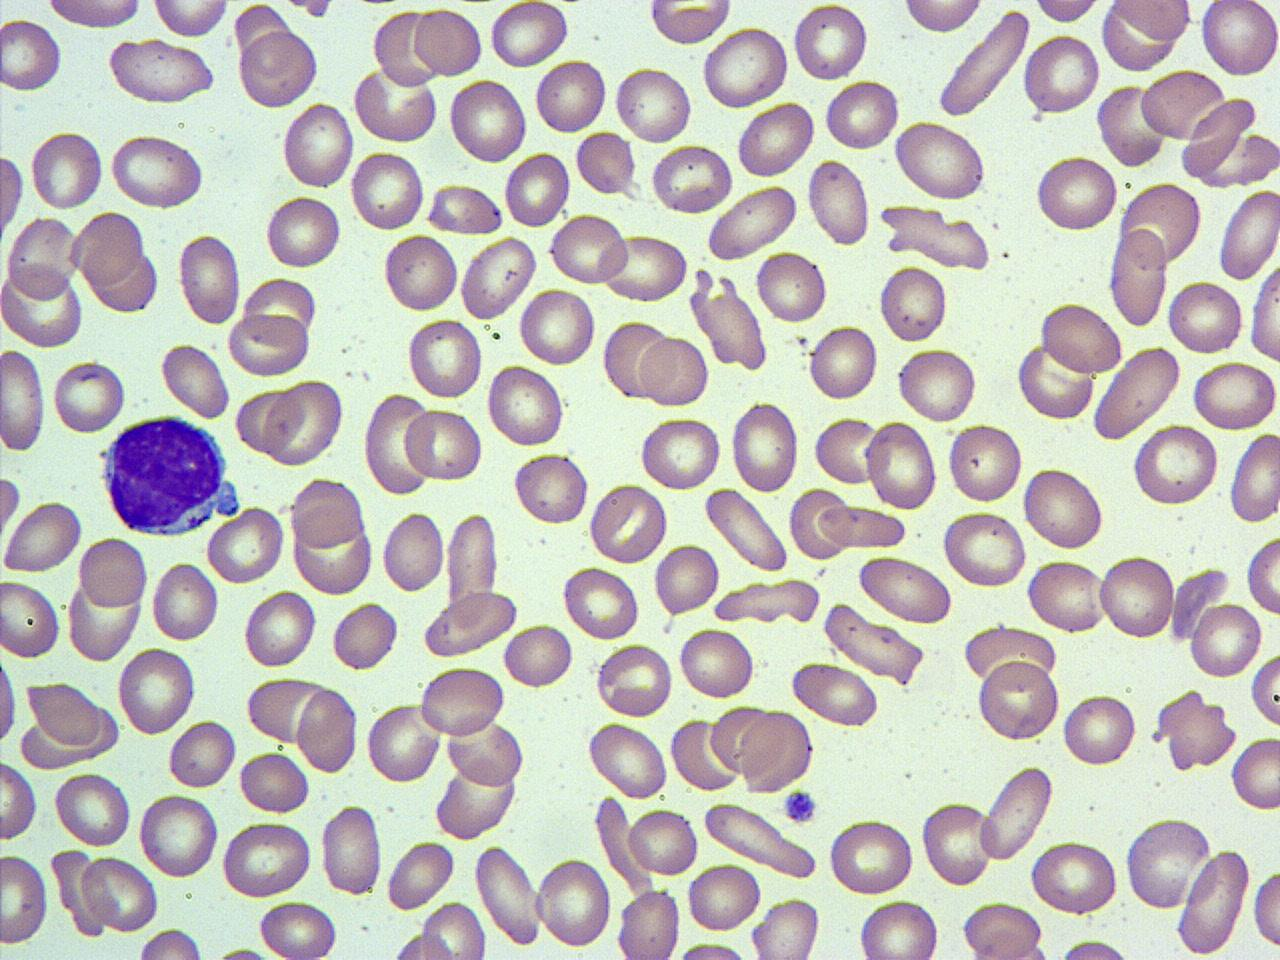Platelets: (782, 788, 820, 826)
RBC: (934, 6, 1032, 120), (821, 600, 929, 688), (699, 800, 816, 878), (1091, 344, 1181, 442), (1174, 844, 1250, 956), (1116, 182, 1204, 272), (700, 24, 792, 112), (1124, 816, 1206, 913), (892, 118, 988, 201), (108, 131, 207, 211), (0, 258, 85, 350), (362, 390, 434, 497), (137, 789, 220, 882), (472, 842, 546, 946), (977, 761, 1053, 862), (698, 267, 770, 375), (878, 204, 994, 270), (1131, 421, 1219, 508), (262, 376, 344, 470), (703, 484, 790, 572), (106, 36, 217, 105), (352, 62, 441, 146), (447, 75, 529, 166), (534, 854, 612, 950), (115, 644, 195, 737), (827, 815, 915, 898), (222, 819, 312, 899), (707, 184, 799, 262), (1098, 550, 1176, 642), (864, 417, 940, 512), (976, 658, 1060, 743), (1034, 151, 1120, 235), (941, 507, 1028, 590), (458, 233, 538, 322), (486, 361, 566, 450), (237, 25, 321, 110), (1021, 465, 1105, 550), (417, 662, 507, 740), (205, 501, 287, 586), (432, 758, 518, 840), (959, 620, 1059, 690), (1028, 838, 1120, 914), (1025, 556, 1111, 636), (406, 314, 484, 402), (729, 400, 800, 496), (280, 100, 355, 192), (1014, 338, 1096, 422), (588, 482, 669, 566), (858, 554, 954, 624), (365, 699, 442, 787), (946, 419, 1024, 507), (5, 212, 81, 302), (920, 799, 996, 888), (739, 707, 815, 795), (1105, 224, 1169, 328), (1137, 68, 1227, 142), (614, 64, 694, 146), (517, 285, 597, 369), (895, 344, 979, 424), (1023, 31, 1101, 117), (241, 586, 318, 672), (383, 230, 461, 316), (586, 720, 668, 800), (350, 148, 427, 233), (402, 404, 484, 484), (639, 414, 723, 492), (600, 232, 690, 304), (1189, 358, 1277, 432), (1096, 82, 1168, 170), (561, 563, 641, 643), (1199, 0, 1279, 81), (735, 100, 816, 178), (1215, 186, 1280, 284), (422, 588, 518, 654), (52, 769, 132, 849), (792, 2, 870, 84), (1039, 301, 1123, 376), (650, 141, 734, 217), (80, 854, 158, 934), (1166, 277, 1246, 356), (264, 192, 342, 272), (532, 56, 610, 137), (789, 659, 880, 728), (754, 246, 830, 327), (1188, 599, 1264, 681), (443, 716, 527, 790), (30, 128, 104, 212), (1061, 690, 1137, 770), (370, 6, 443, 89), (176, 232, 242, 325), (321, 803, 383, 899), (150, 558, 220, 644), (512, 449, 590, 526), (594, 641, 672, 718), (225, 310, 312, 378), (806, 156, 872, 248), (602, 317, 672, 401), (50, 357, 126, 436), (2, 498, 81, 574), (548, 212, 628, 285), (444, 508, 502, 610), (808, 322, 879, 404), (824, 77, 900, 153), (677, 626, 754, 702), (686, 860, 764, 935), (489, 0, 571, 70), (160, 340, 232, 419), (637, 333, 710, 410), (381, 508, 446, 594), (879, 263, 948, 344), (230, 381, 304, 456), (624, 804, 698, 878), (78, 534, 149, 612), (856, 896, 942, 960), (503, 150, 572, 229), (296, 686, 358, 774), (652, 541, 722, 618), (500, 620, 574, 692), (385, 836, 456, 912), (411, 5, 483, 79), (166, 716, 238, 790), (812, 413, 882, 488), (332, 598, 400, 674), (256, 898, 340, 960), (708, 702, 776, 776), (615, 884, 682, 960), (0, 578, 62, 659), (0, 14, 63, 94), (788, 485, 856, 560), (238, 748, 312, 816), (958, 899, 1044, 958), (1227, 431, 1279, 525), (0, 851, 49, 948), (1, 347, 46, 450), (750, 896, 822, 960), (424, 181, 503, 237), (574, 128, 638, 197), (819, 501, 906, 550), (644, 0, 734, 46), (1229, 733, 1279, 814), (422, 899, 487, 960), (1107, 0, 1195, 43), (0, 757, 40, 842), (42, 0, 147, 32), (146, 0, 232, 39), (1247, 265, 1279, 363), (1244, 532, 1280, 618), (898, 0, 986, 35), (1248, 864, 1280, 952), (1249, 648, 1279, 730), (135, 926, 207, 960), (387, 932, 461, 960), (1029, 0, 1107, 26), (0, 642, 18, 754), (1051, 938, 1139, 960), (666, 939, 758, 960)
WBC: (99, 412, 242, 541)
